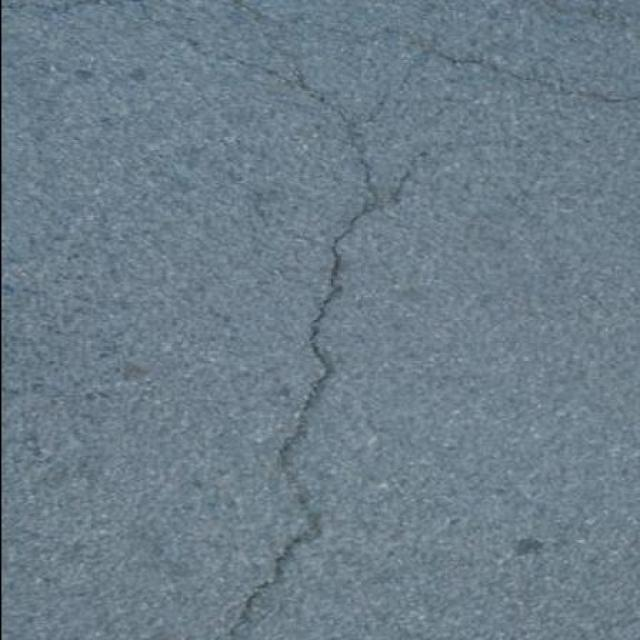Crack: (134, 0, 640, 638), (234, 2, 409, 39)
